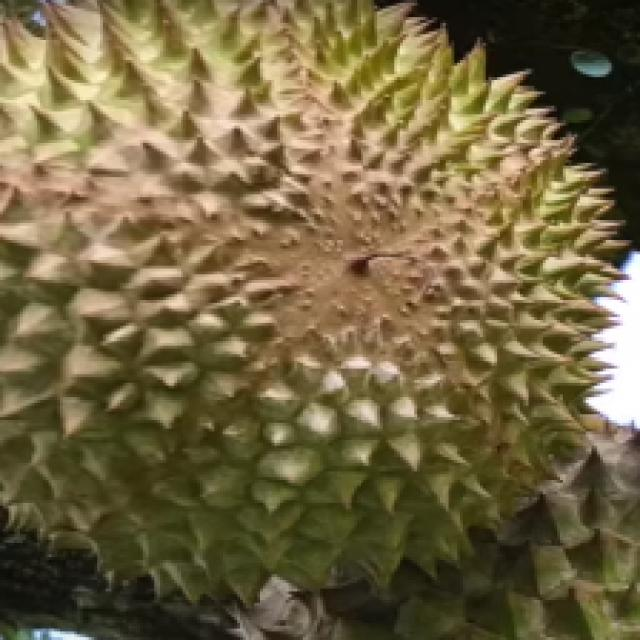d197: (0, 3, 628, 574)
